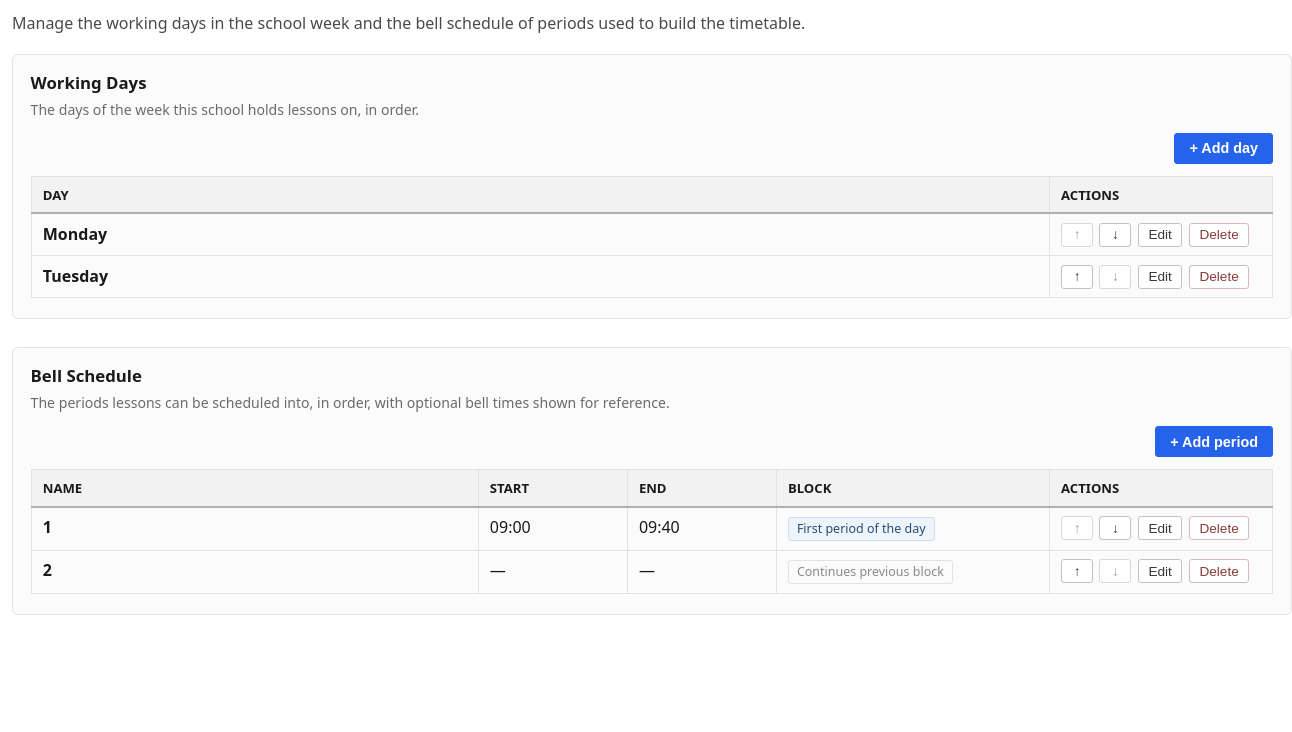
CalendarBellSchedulePanel › Working Days › switches a Day row into inline edit mode and sends the exact update request
Expected: the column heading "Monday" is shown, [31,213,1049,256]
Click the button "Edit" in the row of "Monday".
click(1160, 235)  # box [1138,223,1182,247]
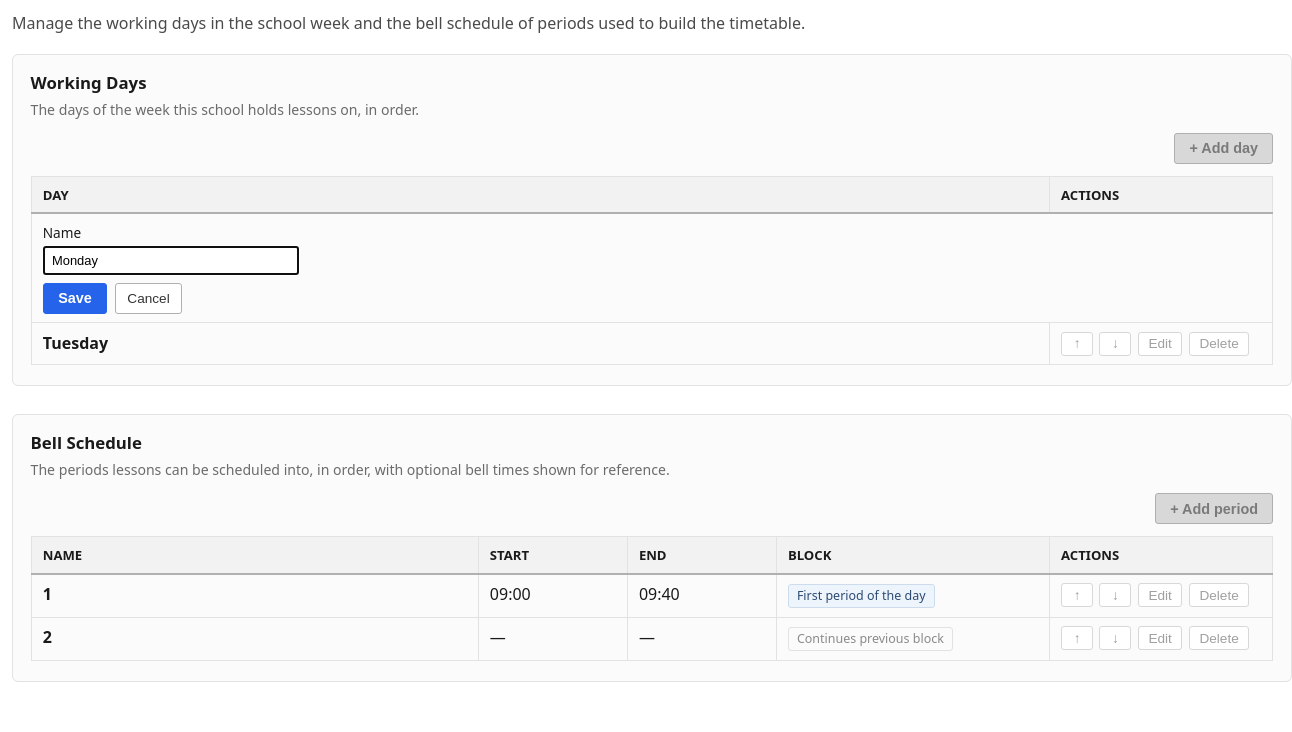
Replace the text in the field labelled "Name" with "Monday Assembly" at (171, 260), box [43,246,299,275]
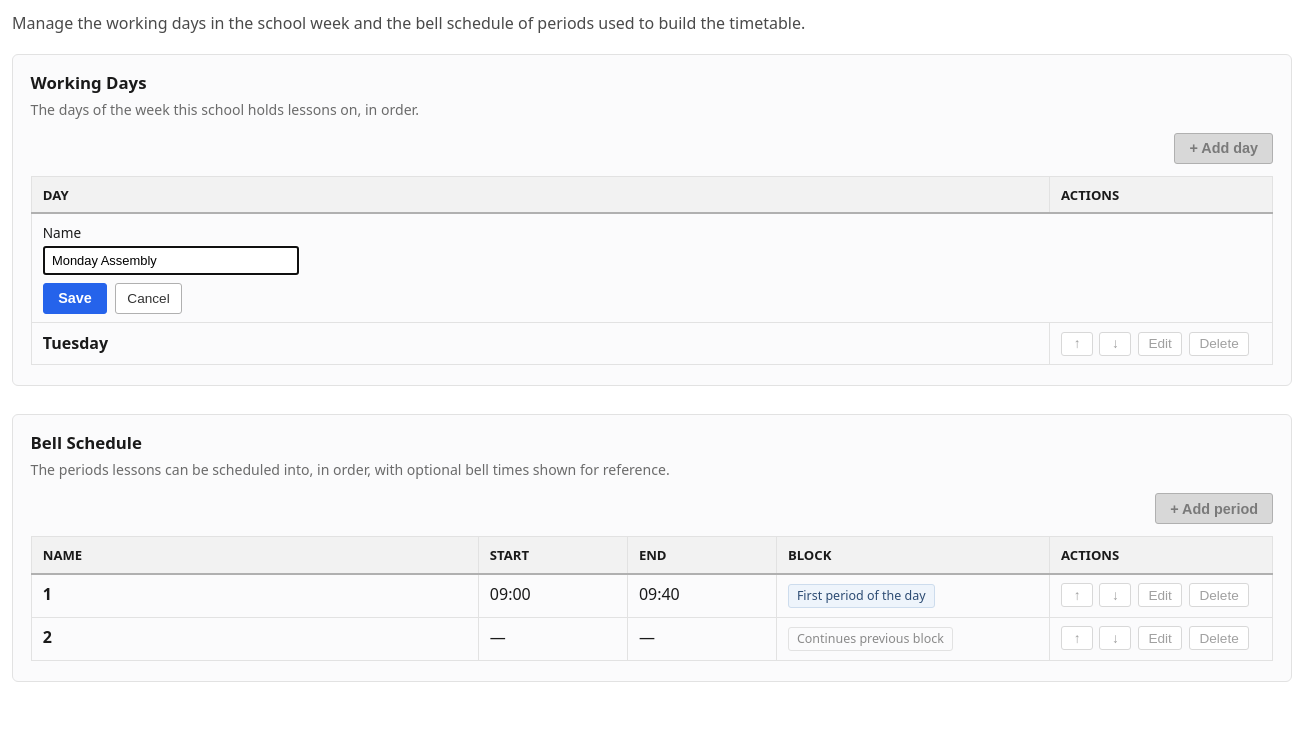
Click the button "Save".
click(75, 298)  # box [43,283,107,314]
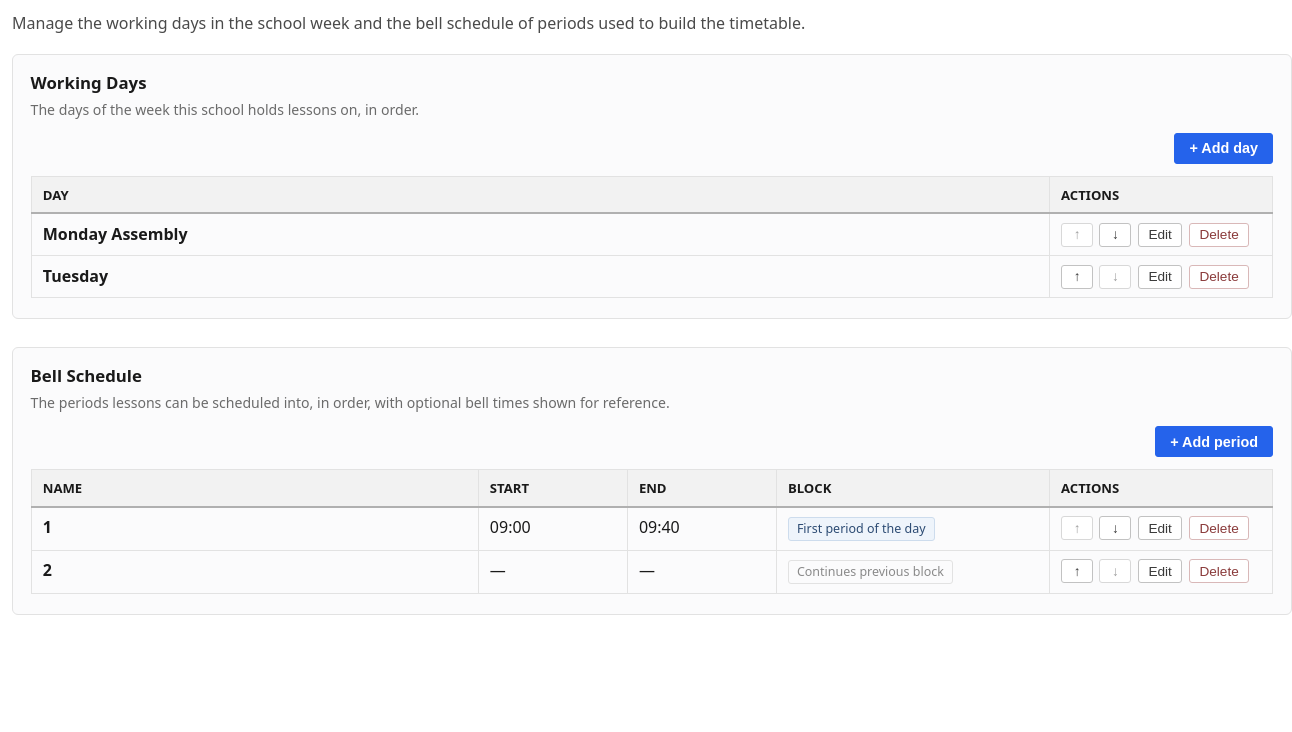
Now the column heading "Monday Assembly" is shown, box [31,213,1049,256]
